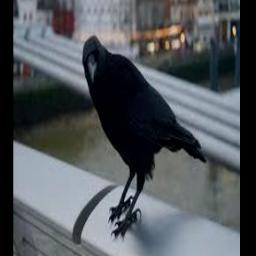Crow: (83, 36, 206, 238)
